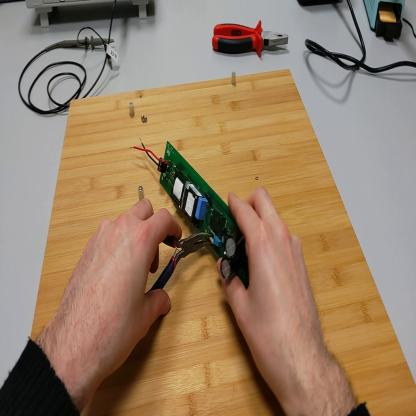hand: (218, 184, 328, 394), (60, 195, 181, 379)
high voltage board: (131, 140, 251, 289)
oscilloscope: (27, 1, 155, 27)
oscilloscope probe tip: (59, 37, 116, 52)
pliers: (153, 233, 213, 291), (213, 18, 289, 56)
welder base: (365, 2, 406, 46)
welder station: (298, 1, 344, 10)
working area: (33, 68, 416, 415)
